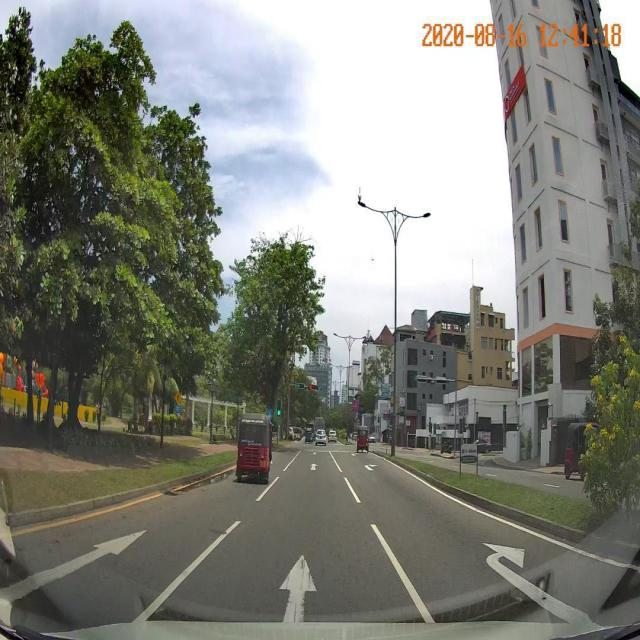Strelka vpered: (2, 530, 149, 591), (279, 553, 317, 623)
Strelka vpravo: (482, 543, 588, 623)
